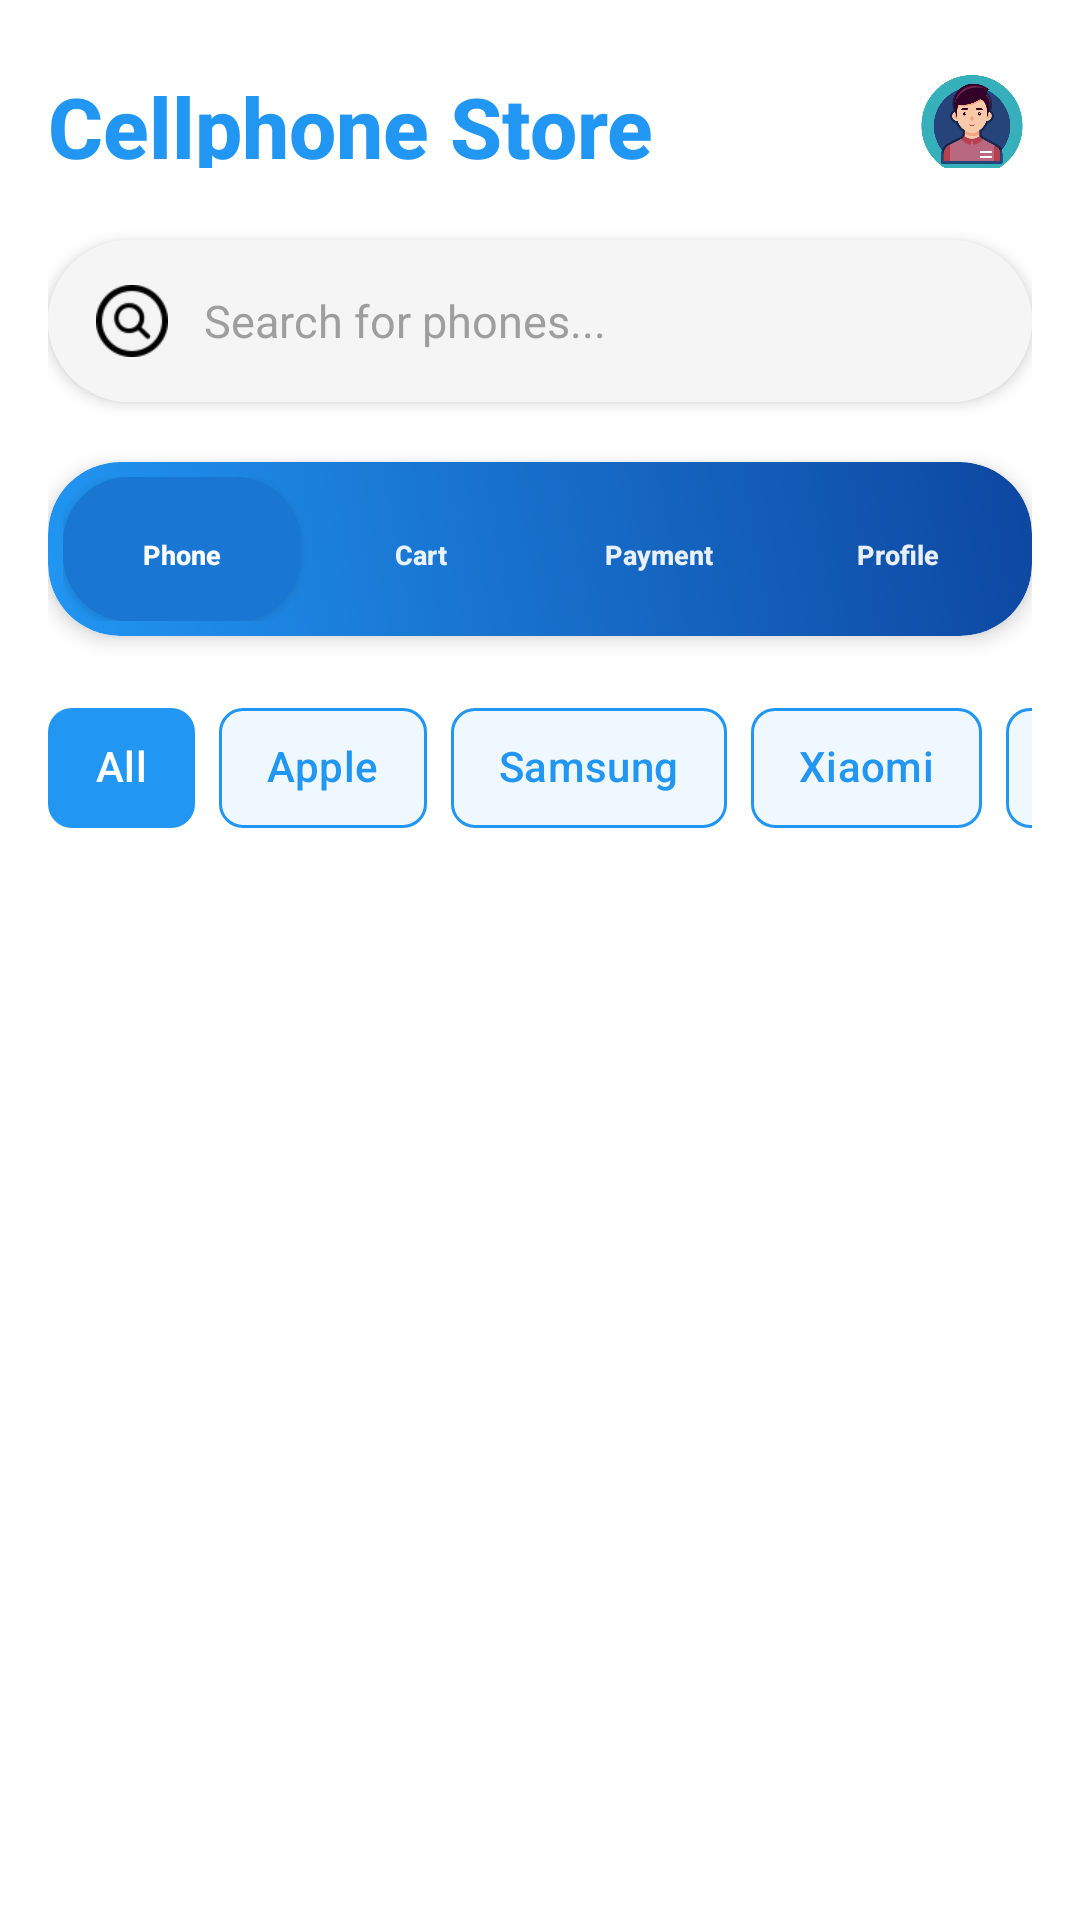

Screen size 1080 x 1920. Icon name, then its box in pixels as (x1, y1, x2, y2):
admin: (921, 75, 1023, 168)
